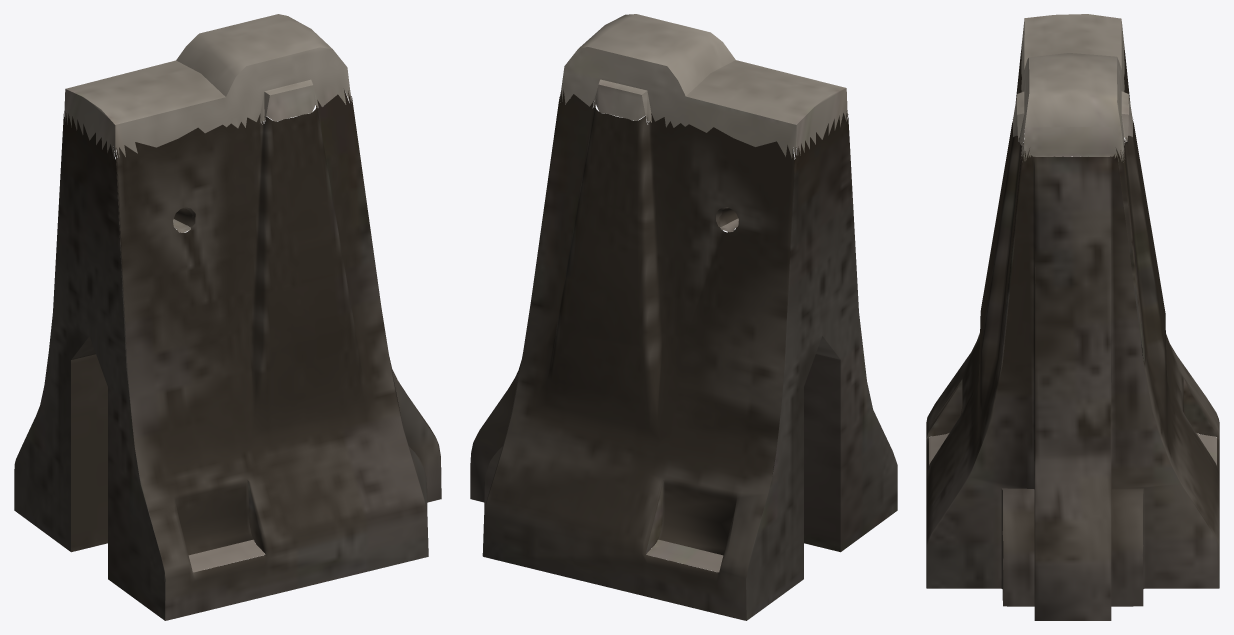
Rendered from stone-wall-w.glb.
The picture shows the model from 3 angles, left to right: view 1: azimuth 30°, elevation 25°; view 2: azimuth 150°, elevation 25°; view 3: azimuth 270°, elevation 25°; orthographic projection. The views are drawn at different scales.
Visible parts, largest first — view 1: body; view 2: body; view 3: body.
Part boxes in pixels (x1,y1,x2,y2): body: [14, 14, 441, 620]; body: [470, 14, 897, 620]; body: [926, 14, 1219, 620].
Size of the model in its own units: 0.9441 by 1.33 by 0.7437.
1 material, 1 textured.
